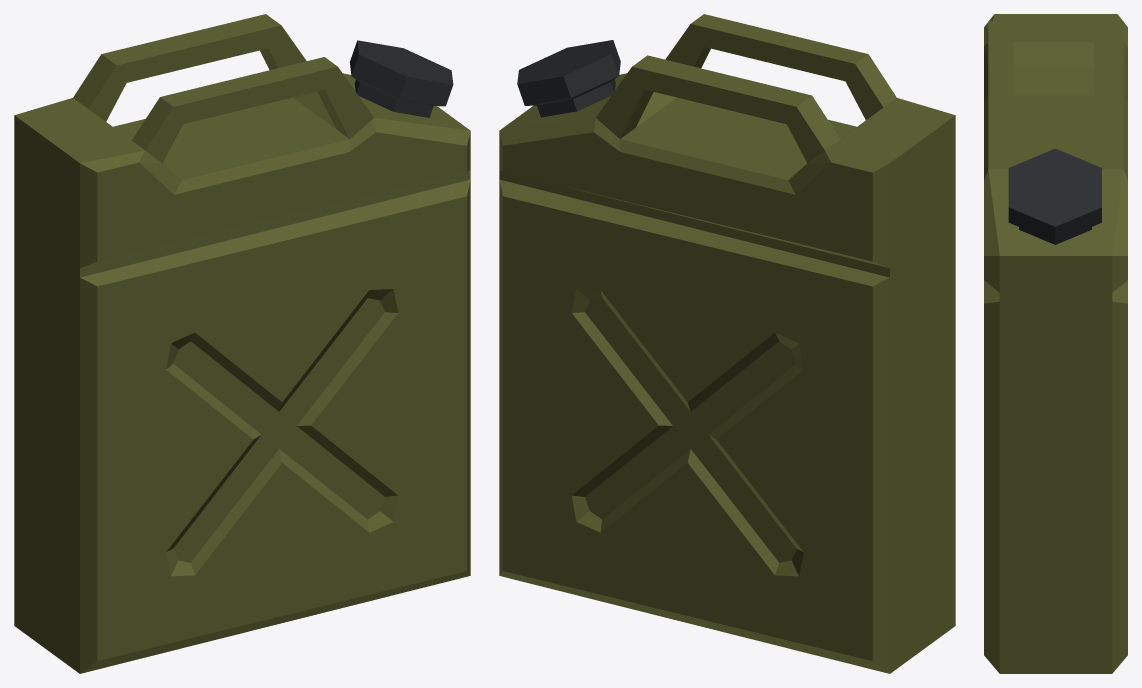
File: SM_Prop_GasCan_01.fbx
The picture shows the model from 3 angles, left to right: view 1: azimuth 30°, elevation 25°; view 2: azimuth 150°, elevation 25°; view 3: azimuth 270°, elevation 25°; orthographic projection. The views are drawn at different scales.
Visible parts, largest first — view 1: SM_Prop_GasCan_01; view 2: SM_Prop_GasCan_01; view 3: SM_Prop_GasCan_01.
Boxes of the visible parts, left/top/right/bottom form: SM_Prop_GasCan_01: left=14, top=14, right=470, bottom=673; SM_Prop_GasCan_01: left=499, top=14, right=955, bottom=673; SM_Prop_GasCan_01: left=984, top=14, right=1127, bottom=673.
Bounding box in the file's own units: 48.67 × 62.99 × 15.97.
